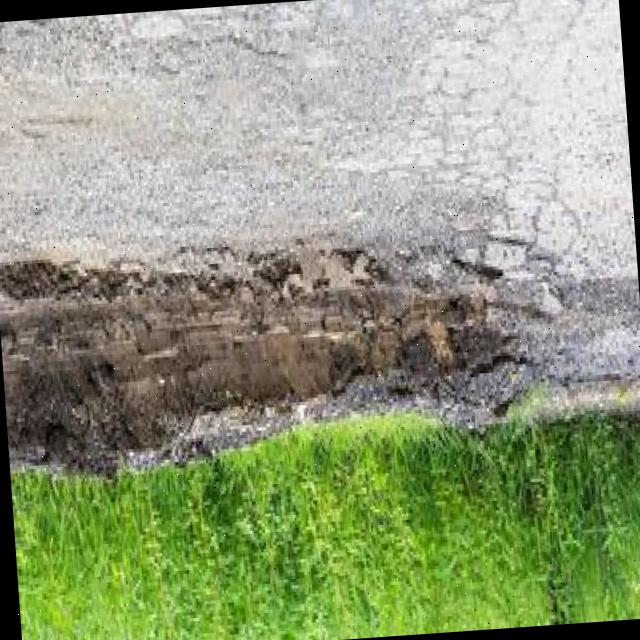road collapse: (0, 50, 628, 514)
